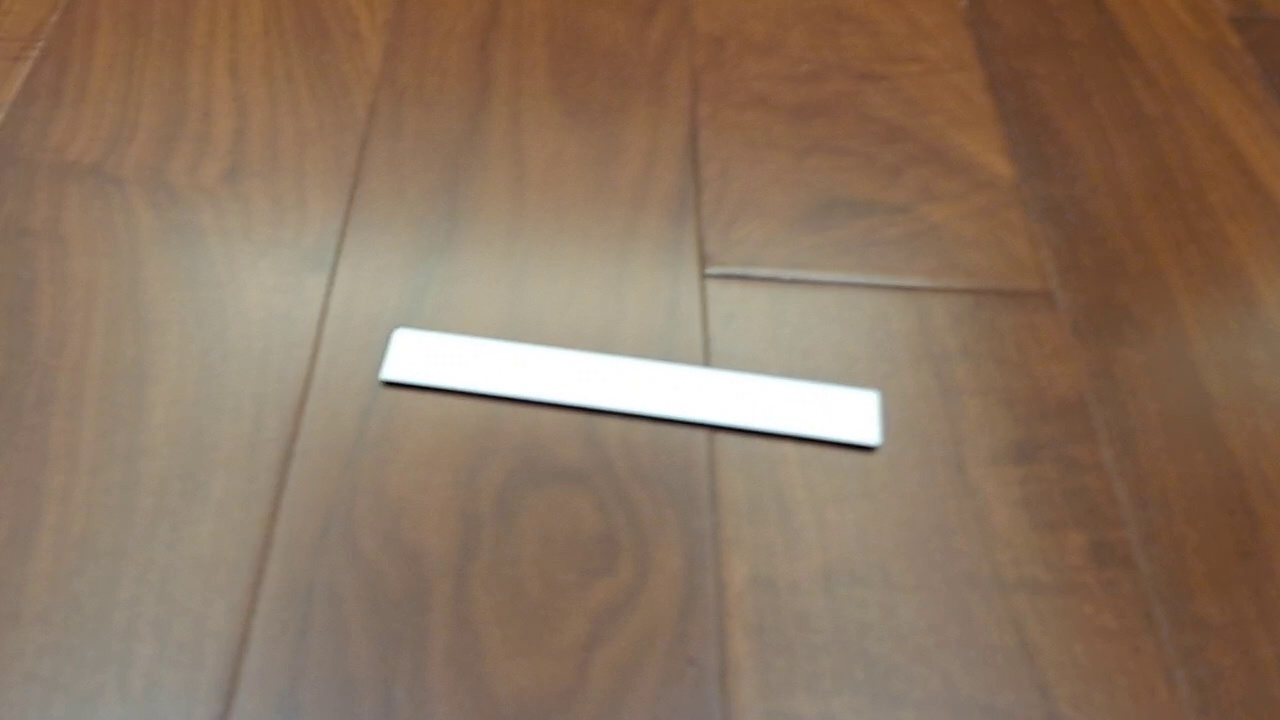ruler: (376, 324, 883, 451)
